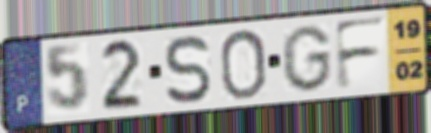2: (99, 36, 146, 114)
5: (42, 41, 93, 118)
F: (331, 15, 389, 94)
G: (279, 23, 334, 94)
O: (217, 26, 268, 102)
S: (163, 33, 213, 106)
